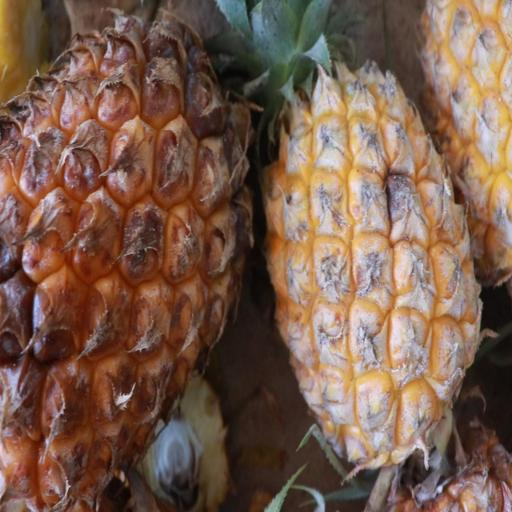Pineapple - v8 v1: (0, 0, 257, 512), (259, 5, 484, 483)
